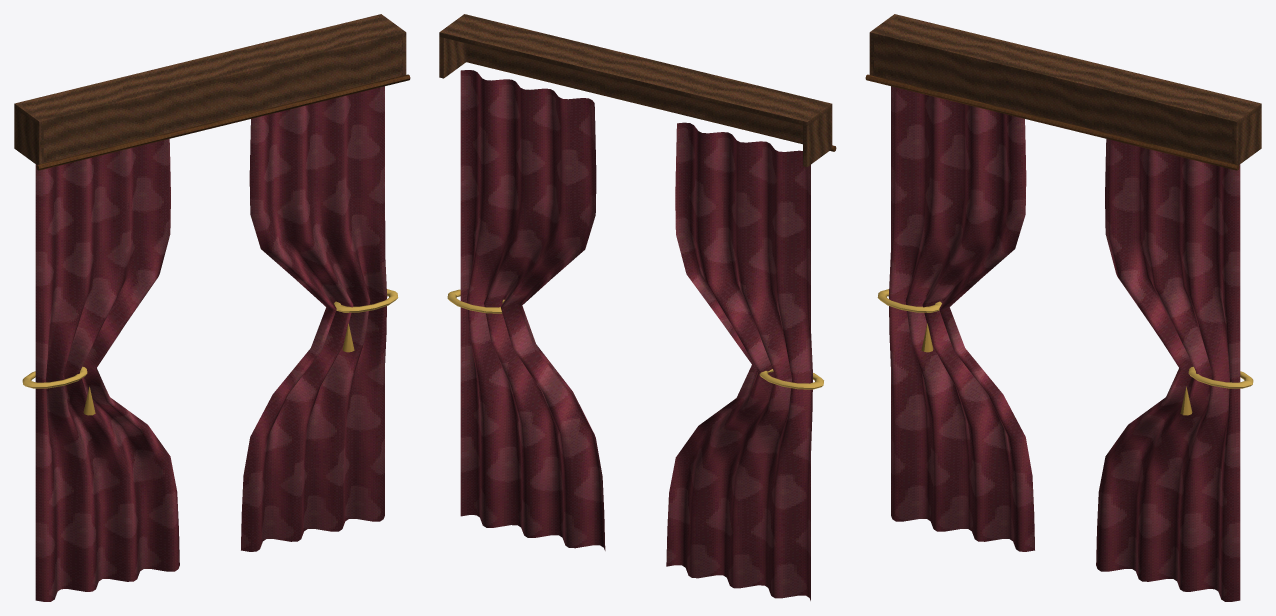
Rendered from curtains_pelmet.glb.
3 renders of one model, left to right at view 1: azimuth 30°, elevation 25°; view 2: azimuth 150°, elevation 25°; view 3: azimuth 330°, elevation 25°, orthographic.
Visible parts, largest first — view 1: curtain_L, curtain_R, pelmet_front, pelmet_top, pelmet_trim, pelmet_side, tieback; view 2: curtain_R, curtain_L, pelmet_top, pelmet_front, pelmet_side (×2), tieback; view 3: curtain_R, curtain_L, pelmet_front, pelmet_top, pelmet_trim, pelmet_side, tieback.
Boxes of the visible parts, x1,y1,x2,y2 form: curtain_L: (35, 139, 179, 601); curtain_R: (241, 86, 387, 551); pelmet_front: (40, 38, 405, 163); pelmet_top: (14, 14, 406, 125); pelmet_trim: (36, 74, 410, 170); pelmet_side: (14, 102, 43, 164); tieback: (22, 366, 87, 388); curtain_R: (460, 70, 605, 550); curtain_L: (666, 122, 812, 600); pelmet_top: (439, 14, 832, 126); pelmet_front: (466, 43, 802, 143); pelmet_side (×2): (439, 15, 832, 166); tieback: (759, 369, 823, 389); curtain_R: (1096, 139, 1240, 601); curtain_L: (888, 86, 1034, 551); pelmet_front: (870, 38, 1235, 163); pelmet_top: (869, 14, 1261, 125); pelmet_trim: (865, 74, 1239, 170); pelmet_side: (1232, 102, 1261, 164); tieback: (1188, 366, 1253, 388).
Bounding box in the file's own units: 1.74 × 2.17 × 0.217.
Materials: 3 (2 with a texture image).
